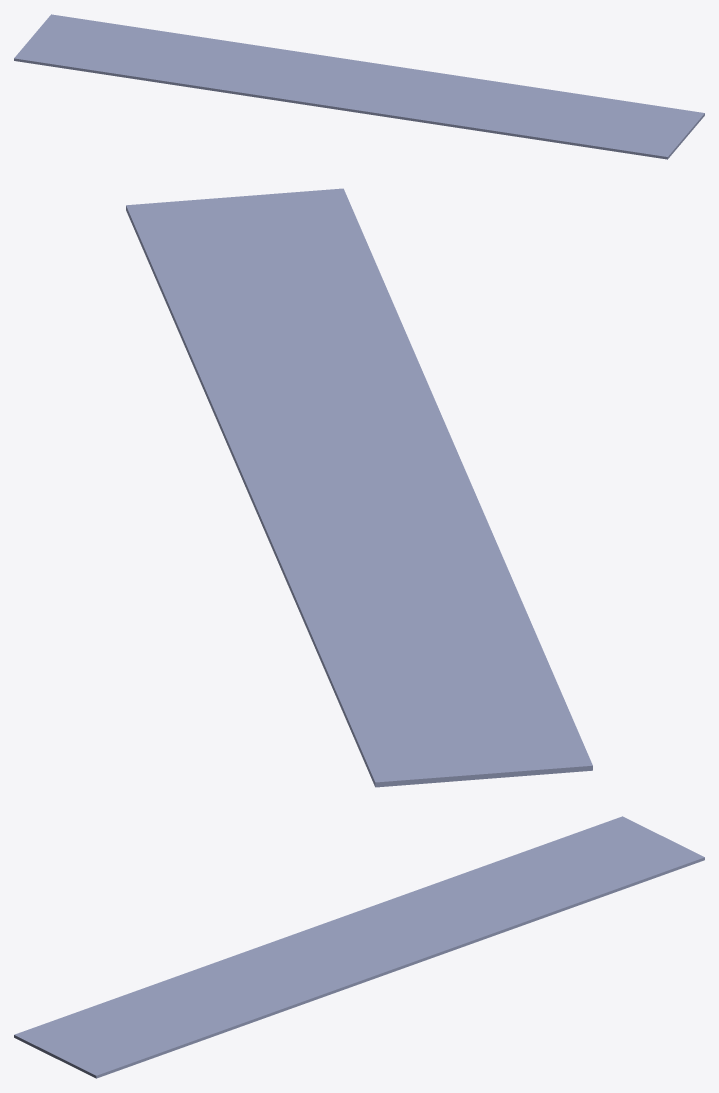
File: road.004_lev1.glb
3 renders of one model, top to bottom at view 1: azimuth 30°, elevation 25°; view 2: azimuth 150°, elevation 25°; view 3: azimuth 270°, elevation 25°, orthographic. The views are drawn at different scales.
Visible parts, largest first — view 1: road.004_lev1; view 2: road.004_lev1; view 3: road.004_lev1.
Boxes of the visible parts, box(x1,y1,x2,y2) form: road.004_lev1: box(14, 14, 704, 159); road.004_lev1: box(126, 188, 592, 787); road.004_lev1: box(14, 816, 704, 1078).
Bounding box in the file's own units: 22.62 × 0.1172 × 25.45.
Materials: 1 (1 with a texture image).
